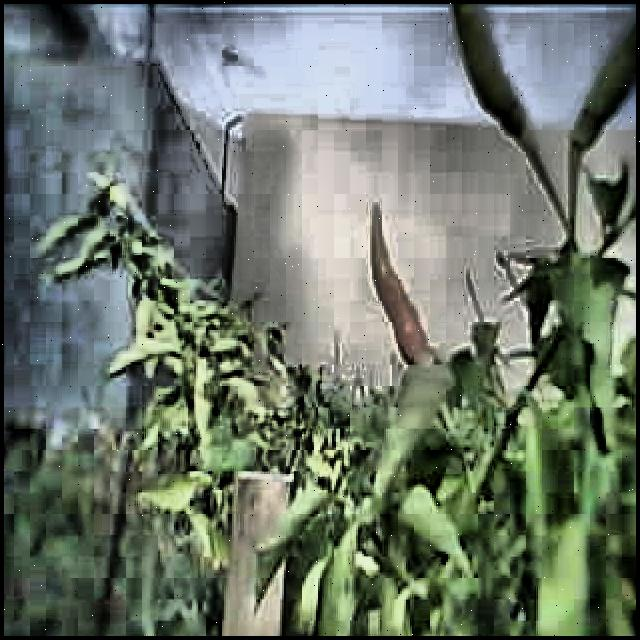Cabai: (353, 198, 458, 363)
